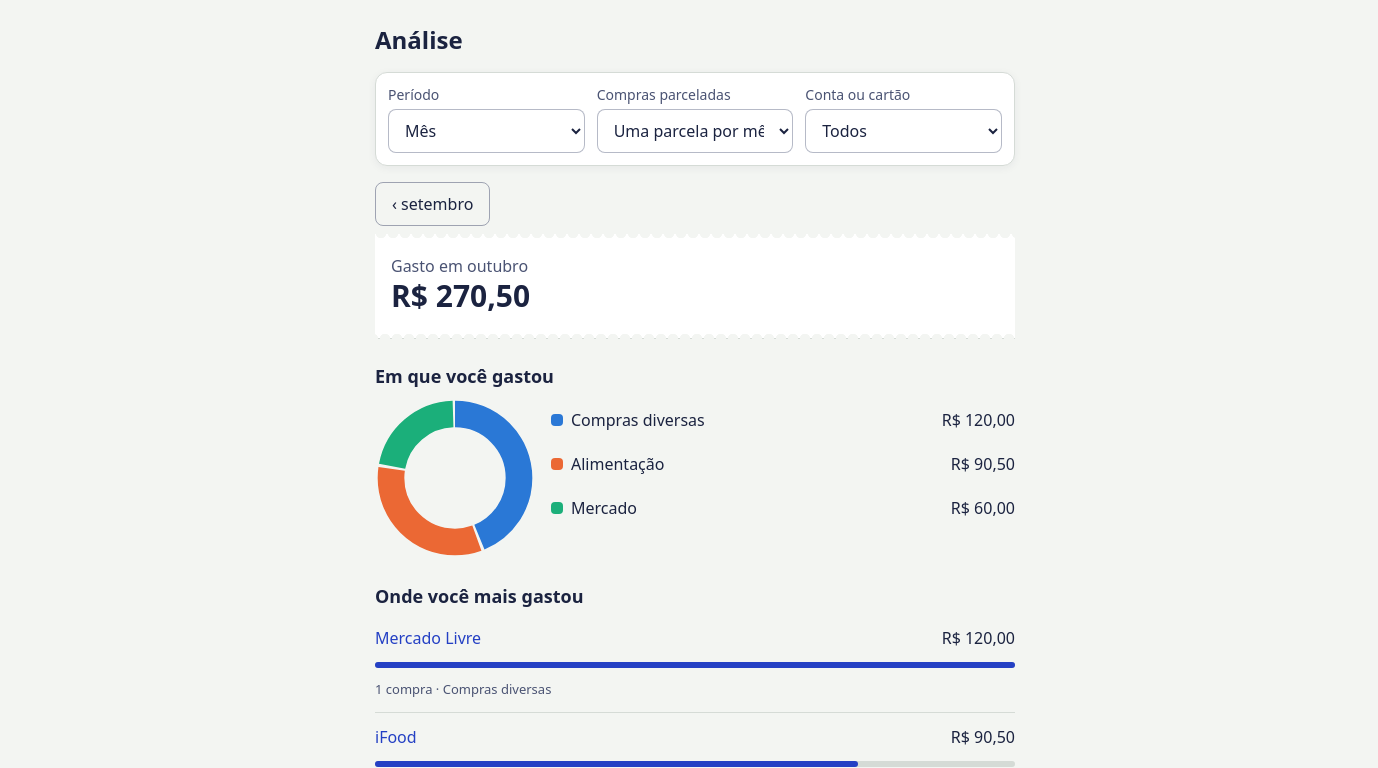
mode toggle sends purchase mode
Select "Valor total no dia da compra" in the dropdown labelled "Compras parceladas" at (695, 131), box [597,109,793,153]
(page scrolled)
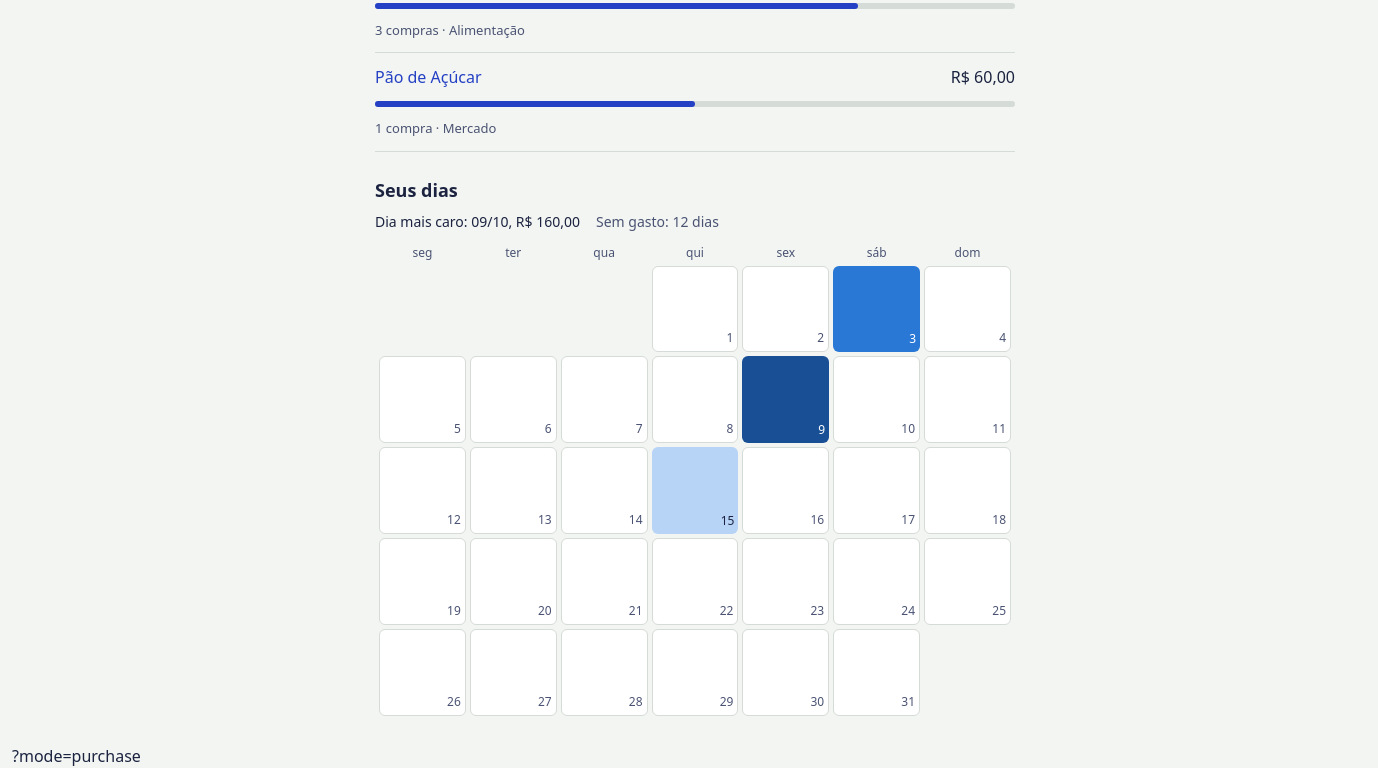
Now the text with test id "search" shows "mode=purchase", box [12,745,141,767]
